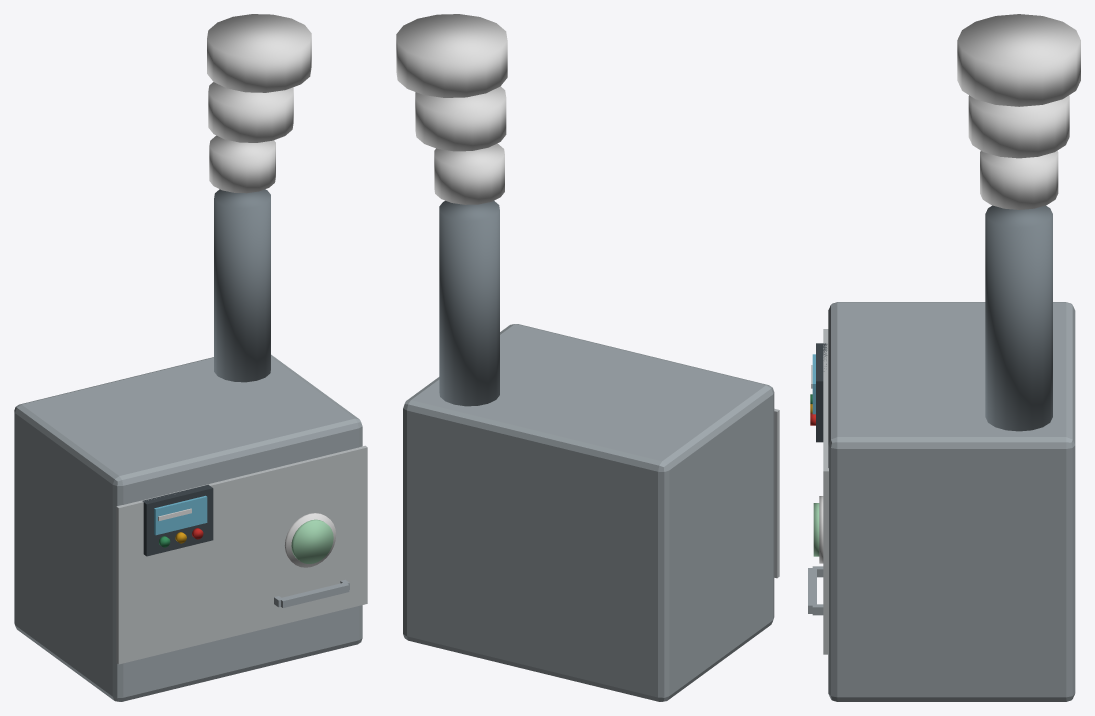
Rendered from m_steamer.glb.
3 renders of one model, left to right at view 1: azimuth 30°, elevation 25°; view 2: azimuth 150°, elevation 25°; view 3: azimuth 270°, elevation 25°, orthographic. The views are drawn at different scales.
Parts seen in each view (by area): view 1: m_steamer; view 2: m_steamer; view 3: m_steamer.
Boxes of the visible parts, x1,y1,x2,y2 form: m_steamer: (14,14,367,701); m_steamer: (396,14,779,701); m_steamer: (808,14,1080,701).
Bounding box in the file's own units: 0.325 × 0.64 × 0.243.
